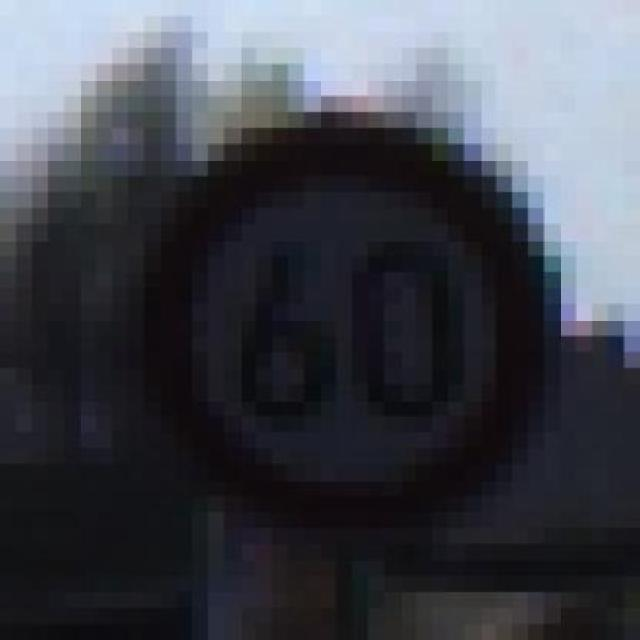forb_speed_over_60: (165, 119, 540, 525)
